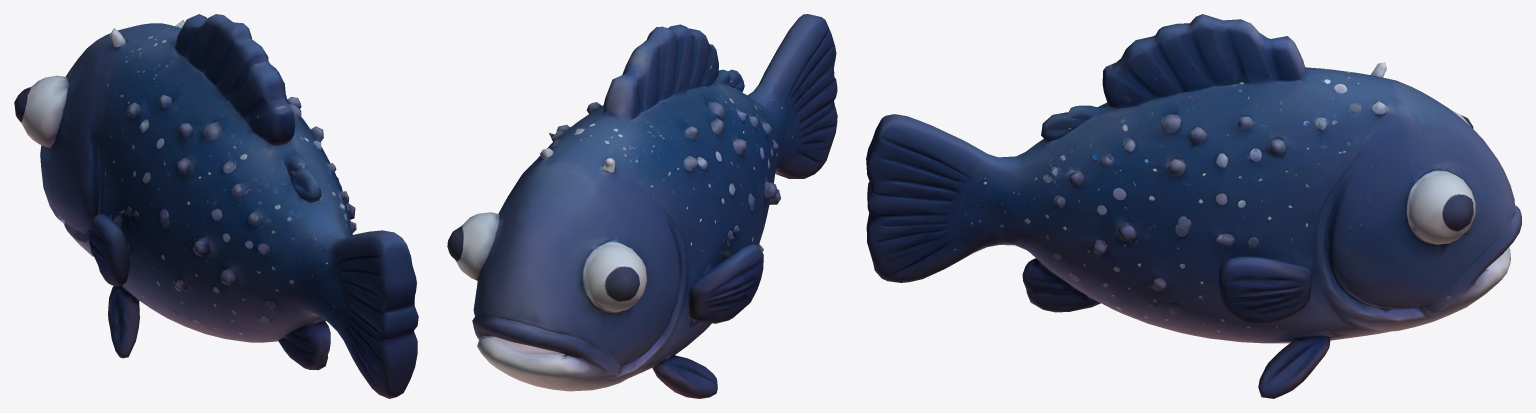
The model's file is rockfish.glb.
3 views of the same model, side by side, from view 1: azimuth 30°, elevation 25°; view 2: azimuth 150°, elevation 25°; view 3: azimuth 270°, elevation 25° (orthographic). The views are drawn at different scales.
Parts seen in each view (by area): view 1: tripo_node_5c7467d6-2c74-4c9e-9f1b-19012dea7efc; view 2: tripo_node_5c7467d6-2c74-4c9e-9f1b-19012dea7efc; view 3: tripo_node_5c7467d6-2c74-4c9e-9f1b-19012dea7efc.
Part boxes in pixels (bbox=[...]): tripo_node_5c7467d6-2c74-4c9e-9f1b-19012dea7efc: bbox=[14, 14, 418, 398]; tripo_node_5c7467d6-2c74-4c9e-9f1b-19012dea7efc: bbox=[447, 14, 837, 398]; tripo_node_5c7467d6-2c74-4c9e-9f1b-19012dea7efc: bbox=[866, 14, 1521, 398].
Bounding box in the file's own units: 0.4183 × 0.5779 × 1.
Materials: 1 (1 with a texture image).
